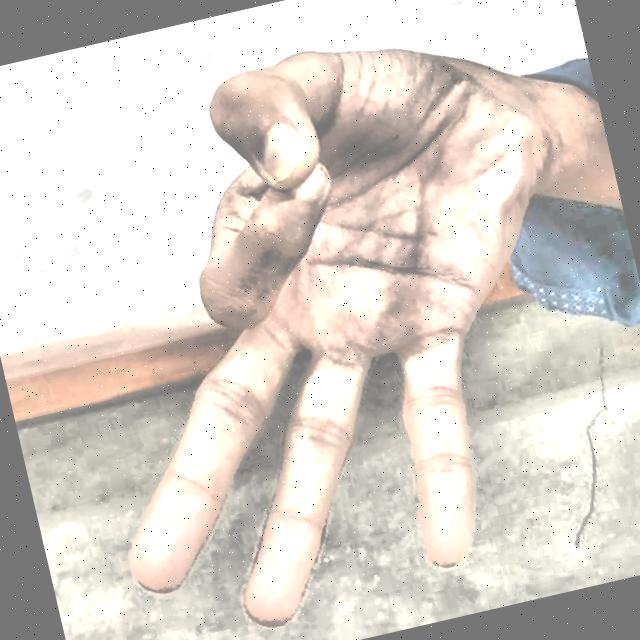Fa: (8, 0, 635, 640)
